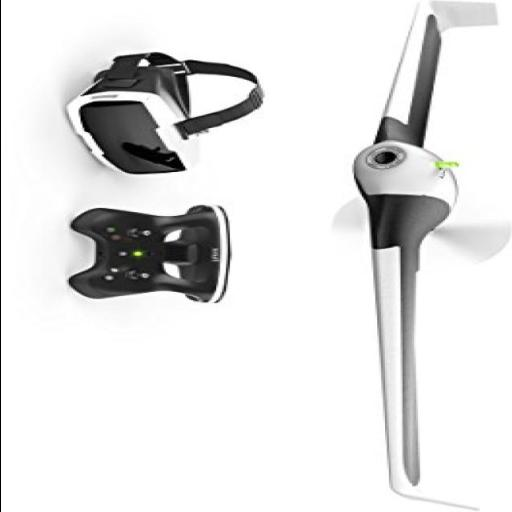uav: (340, 0, 510, 511)
